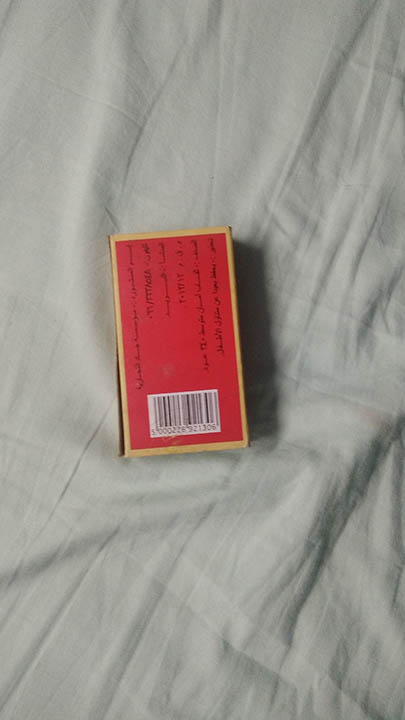match-sticks .90$: (96, 218, 272, 473)
